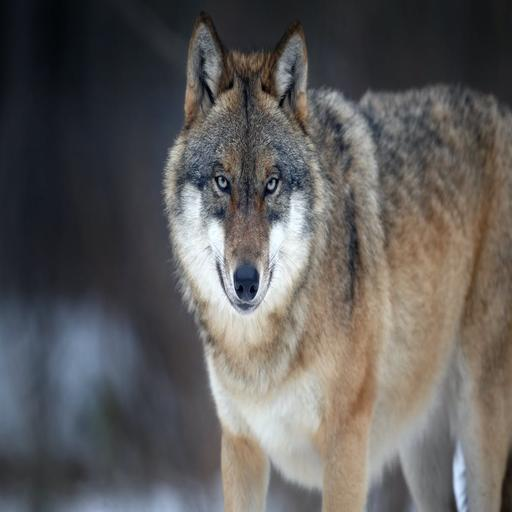Wolf: (159, 3, 512, 512)
